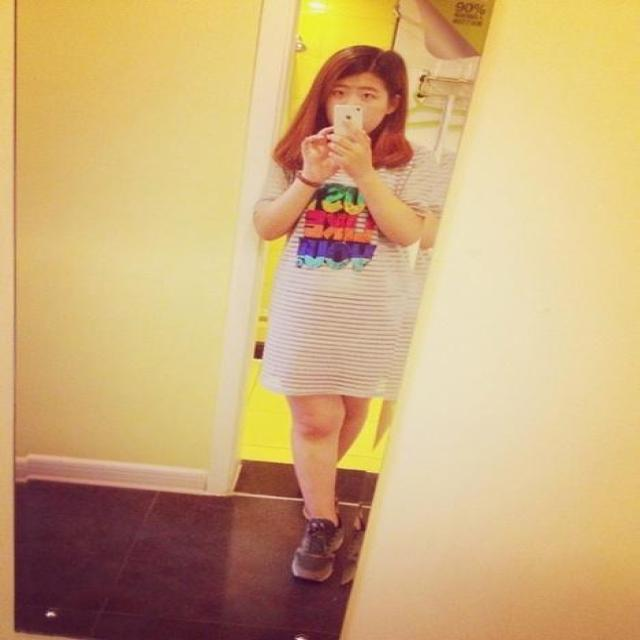short sleeve dress: (256, 137, 447, 398)
